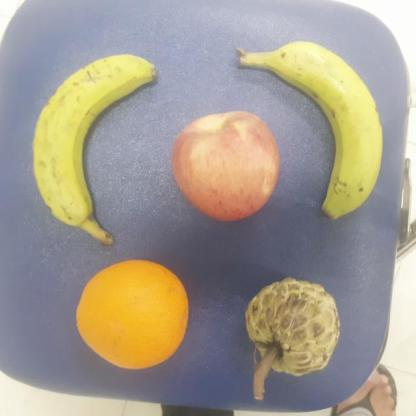annona: (244, 275, 340, 376)
apple: (169, 110, 280, 222)
banana: (236, 39, 381, 220), (32, 54, 156, 245)
orange: (75, 260, 190, 370)
